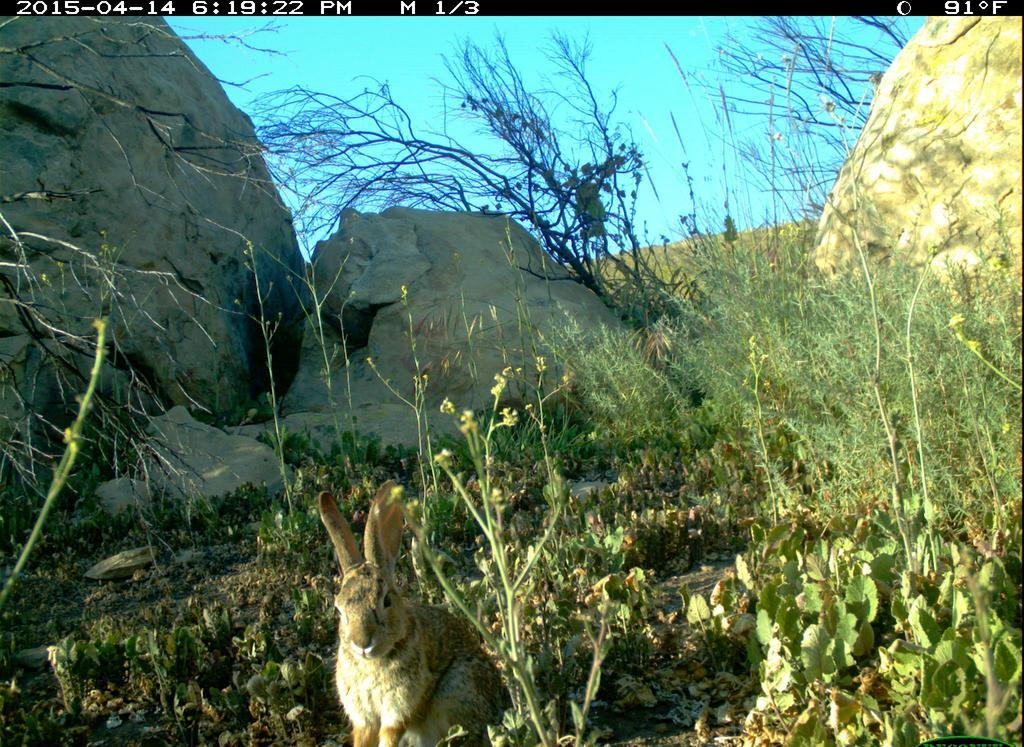rabbit: (306, 484, 516, 744)
